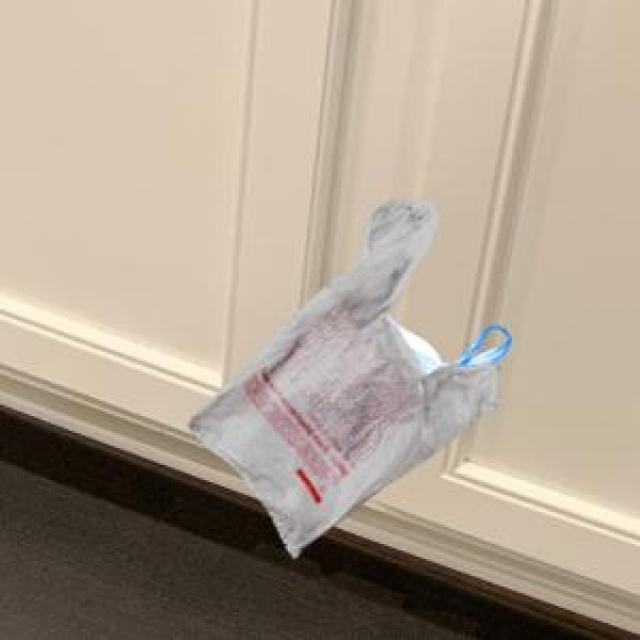waste: (197, 205, 507, 554)
